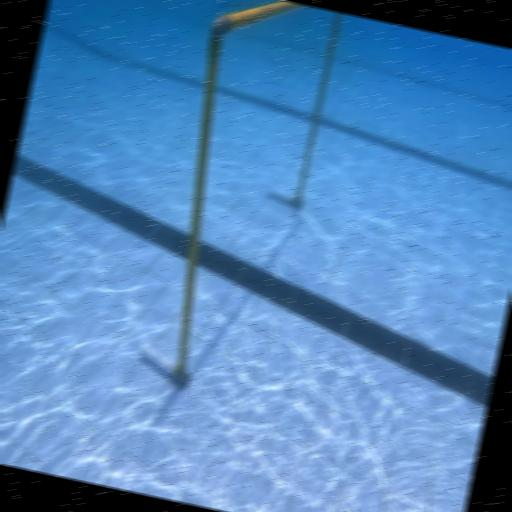gate: (133, 0, 345, 404)
